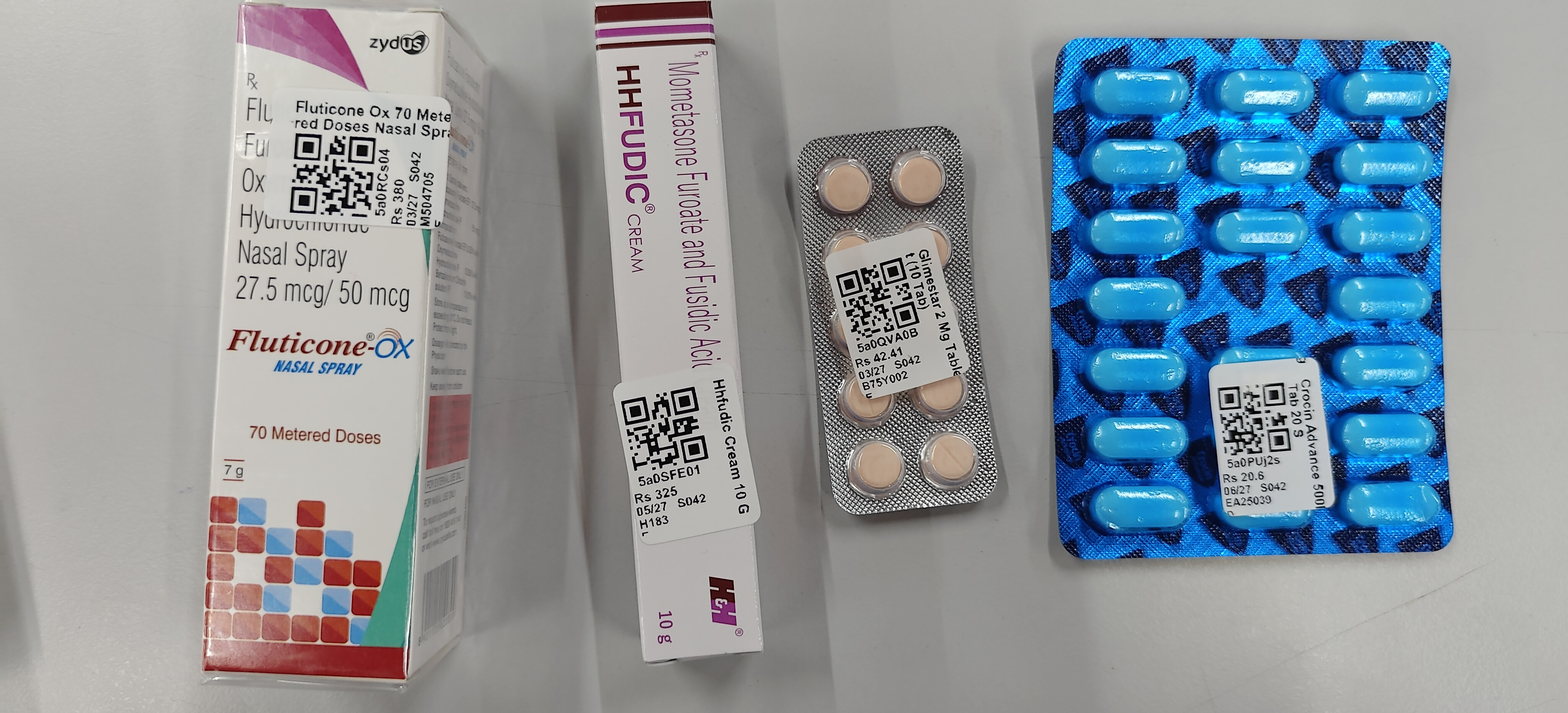qr_code: (620, 386, 708, 474), (289, 132, 376, 218), (835, 258, 919, 342)
